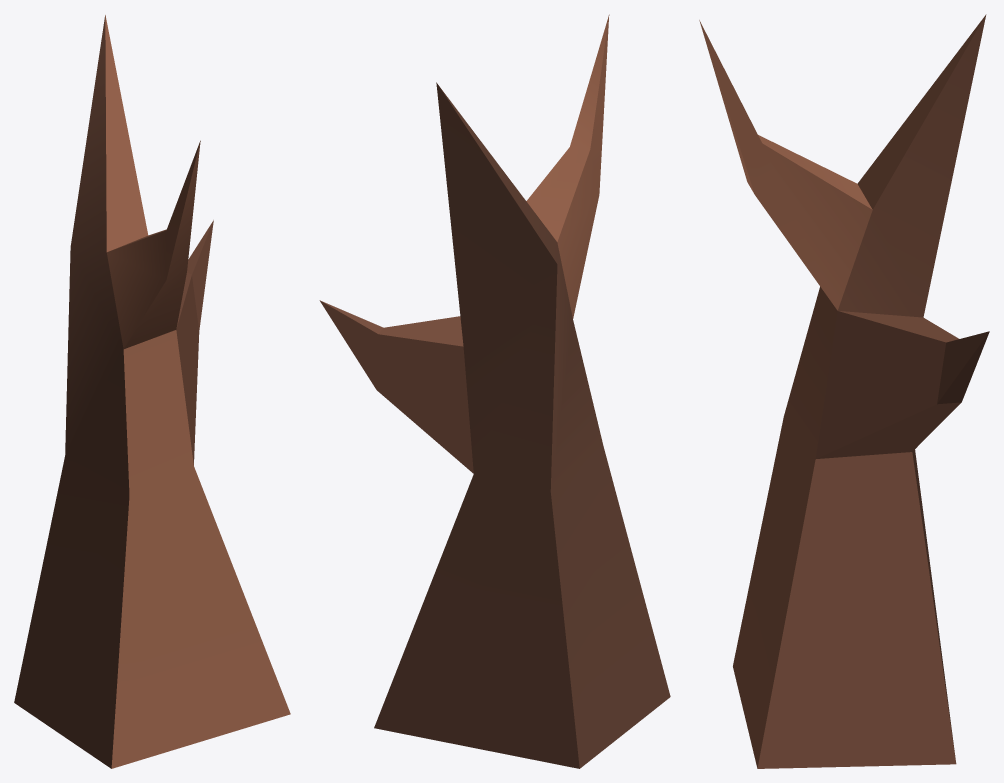
Rendered from Projectile_2_Boss_6_Tree.fbx.
The picture shows the model from 3 angles, left to right: view 1: azimuth 30°, elevation 25°; view 2: azimuth 150°, elevation 25°; view 3: azimuth 270°, elevation 25°; orthographic projection. The views are drawn at different scales.
Visible parts, largest first — view 1: Projectile_2_Boss_6_Tree; view 2: Projectile_2_Boss_6_Tree; view 3: Projectile_2_Boss_6_Tree.
Boxes of the visible parts, x1,y1,x2,y2 form: Projectile_2_Boss_6_Tree: (14, 15, 290, 768); Projectile_2_Boss_6_Tree: (319, 14, 670, 768); Projectile_2_Boss_6_Tree: (699, 14, 989, 768).
Bounding box in the file's own units: 0.0146 × 0.0402 × 0.0149.
